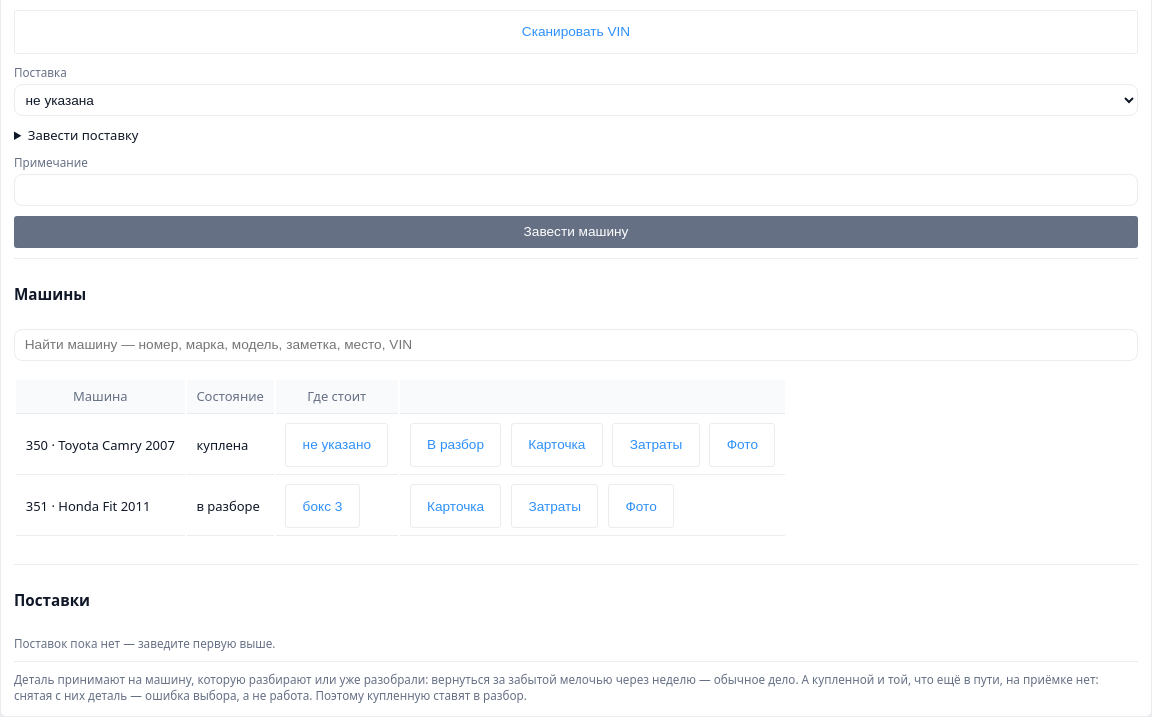
где стоит машина › правится в строке и уходит на сервер
(page scrolled)
Step 1. Click the button "не указано" → click(337, 445), box 285,423 -> 388,467
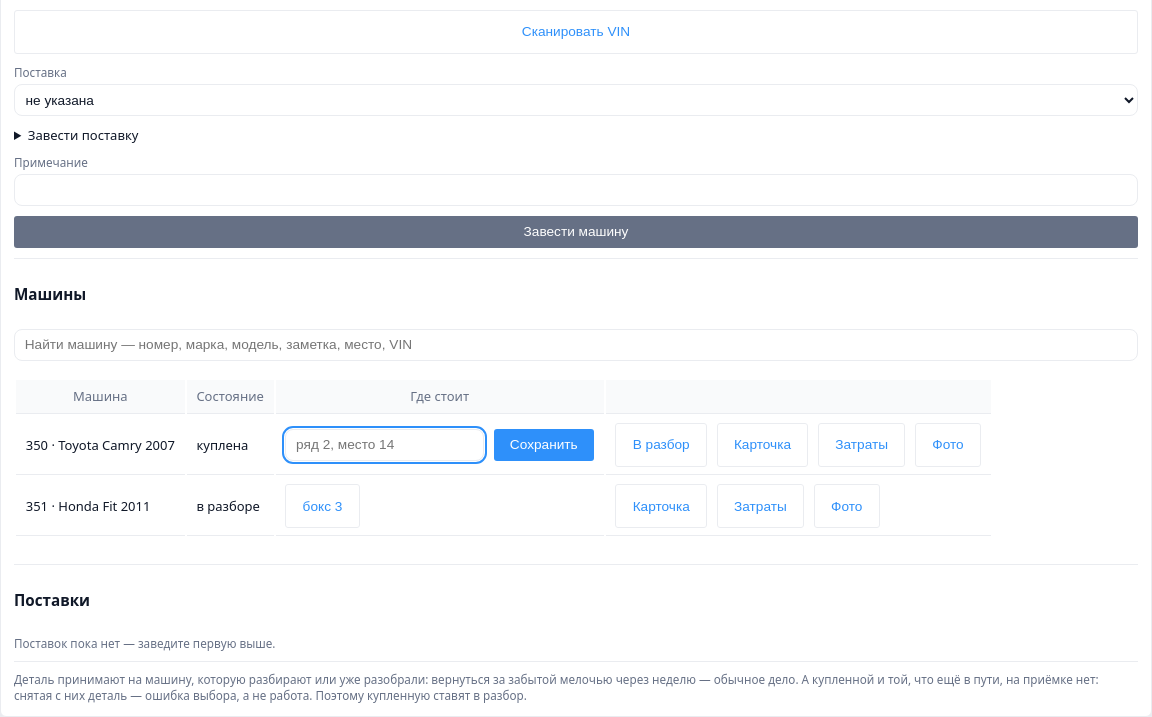
Step 2. Type " ряд 2, место 14 " into the field named "Где стоит 350" → (385, 445), box 285,429 -> 484,461
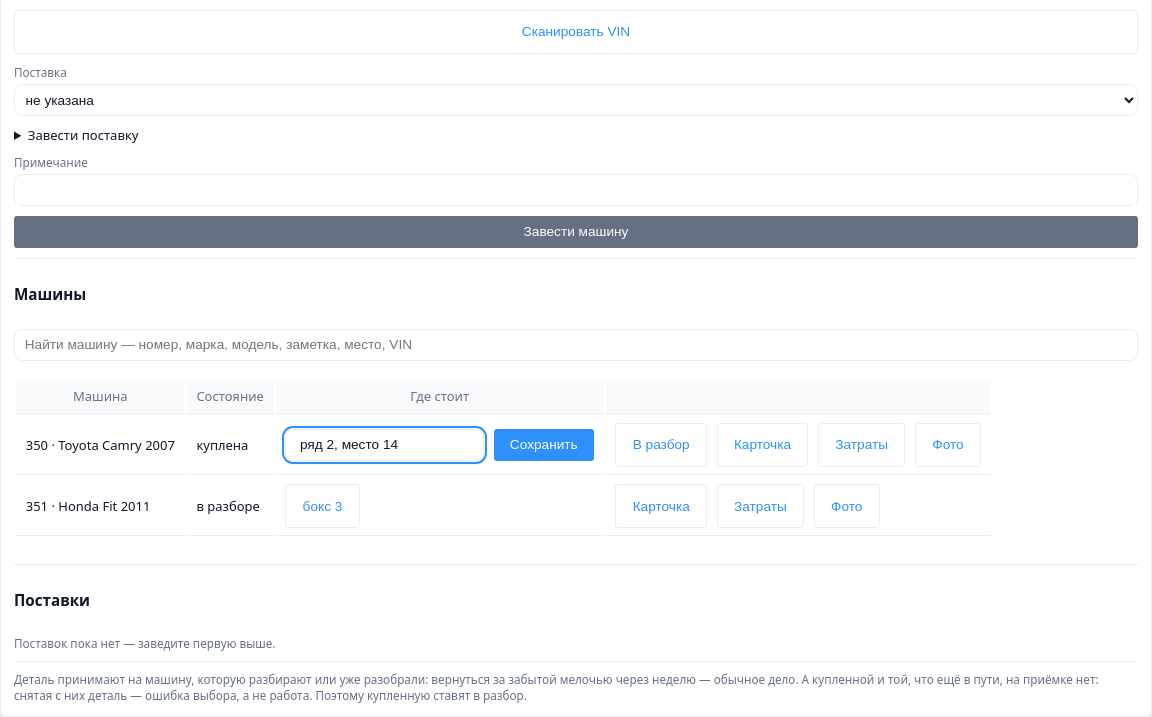
Step 3. Click the button "Сохранить" → click(544, 445), box 494,429 -> 594,461
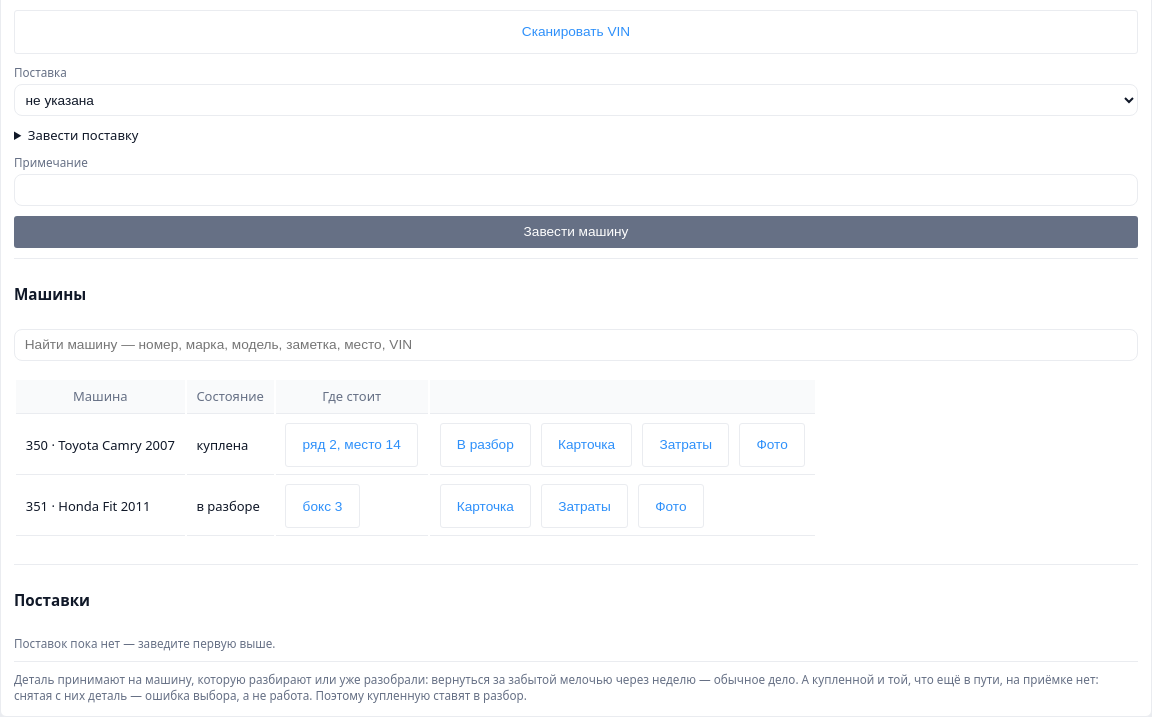
Expected: the button "ряд 2, место 14" is shown, 285,423 -> 418,467
